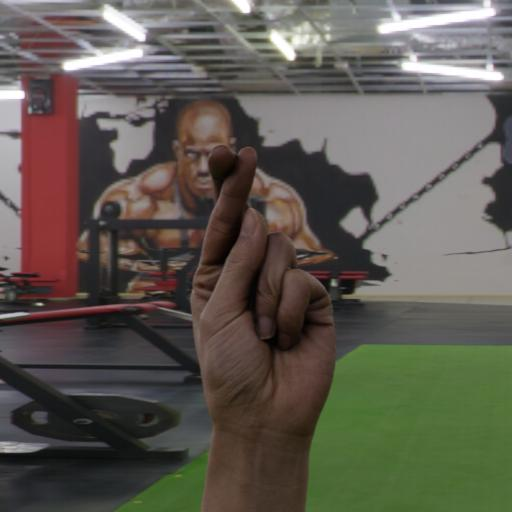R: (171, 137, 354, 512)
